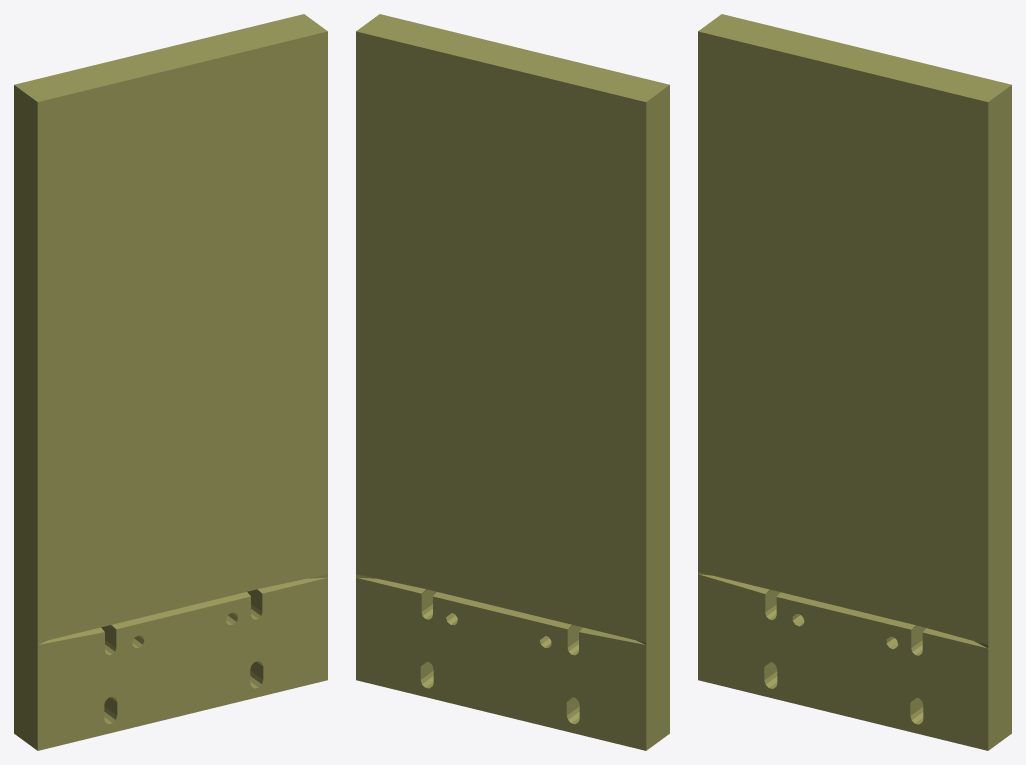
The model's file is OBJ_PCB.PcbDoc.obj.
The picture shows the model from 3 angles, left to right: view 1: azimuth 30°, elevation 25°; view 2: azimuth 150°, elevation 25°; view 3: azimuth 330°, elevation 25°; orthographic projection.
Size of the model in its own units: 70.4 by 150 by 10.
